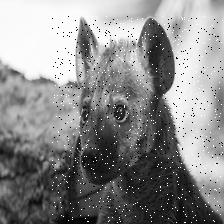hyena: (52, 16, 223, 224)
